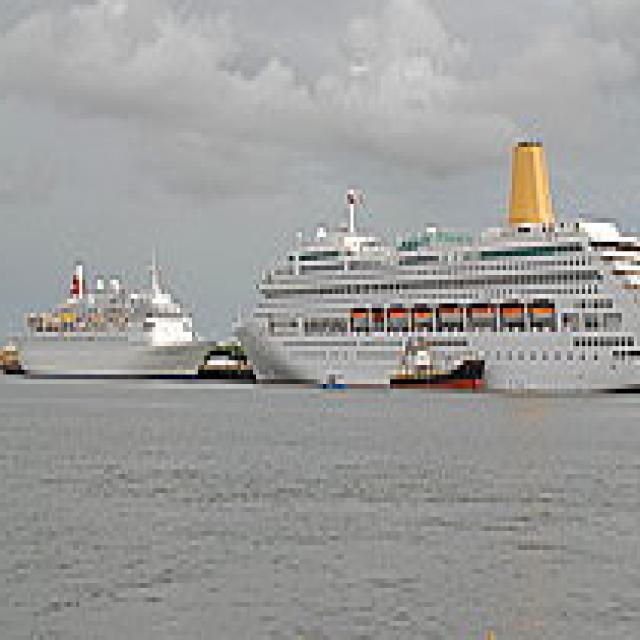Cruise: (232, 132, 640, 393), (9, 237, 232, 379)
